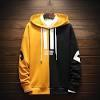sweater: (17, 13, 82, 96)
